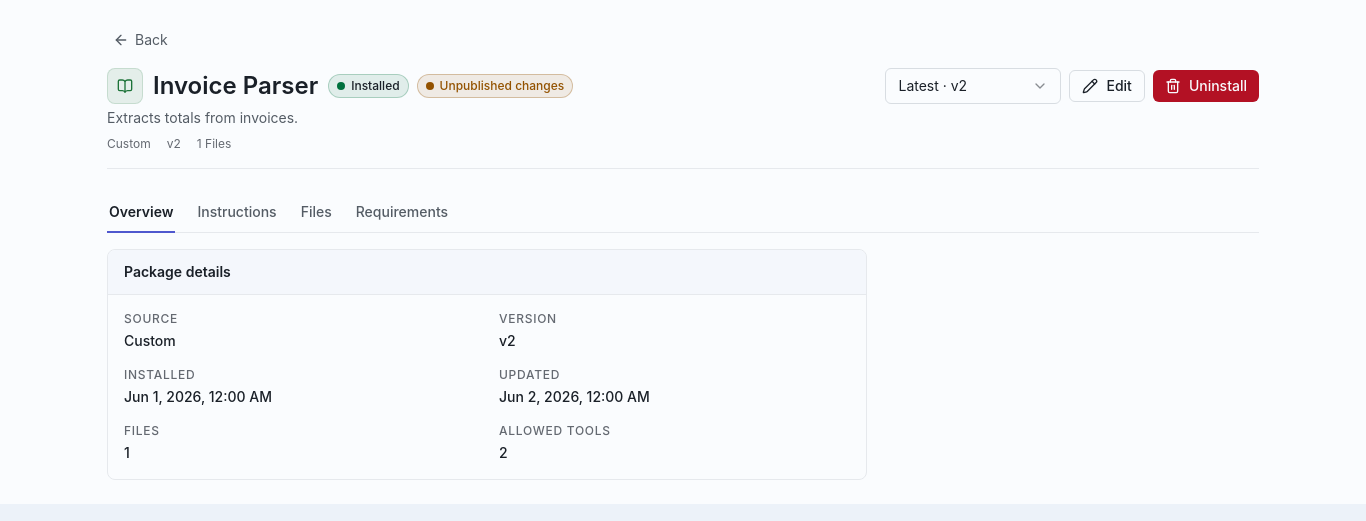
Test case: <SkillDetailPage> › renders name, SKILL.md body, allowed-tools chips, and a Back link
The width and height of the screenshot is (1366, 521).
expect the heading "Invoice Parser" is shown: met, box x1=153 y1=70 x2=318 y2=102
The SKILL.md body surfaces in the Instructions tab.
Click the tab "Instructions". click: (237, 213)
box: x1=196 y1=193 x2=279 y2=233
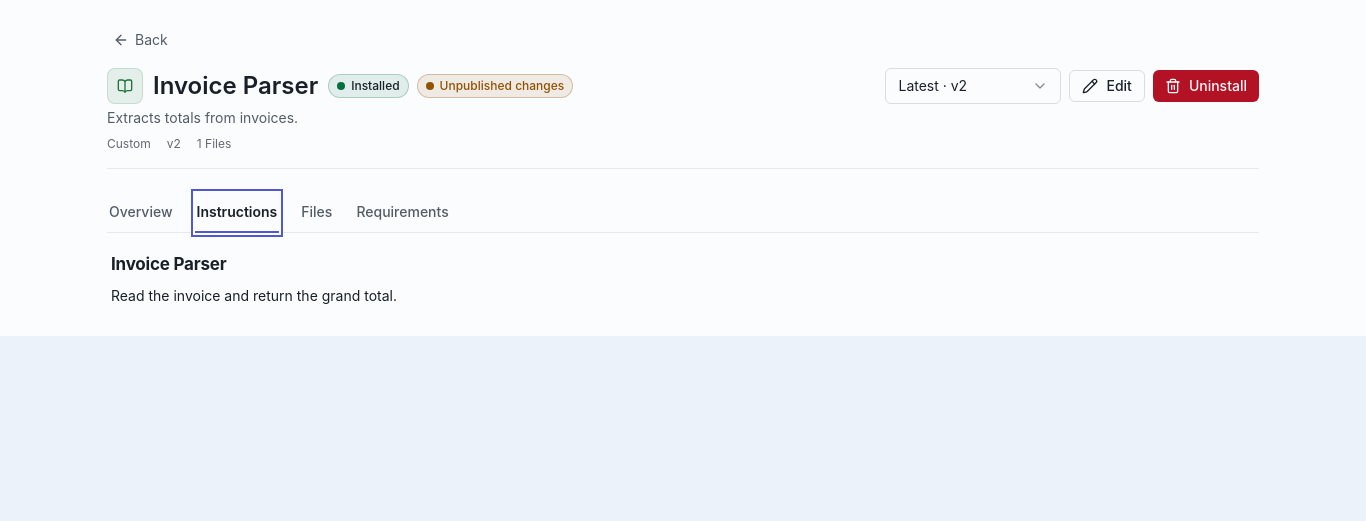
expect the text "Read the invoice and return the grand total." is shown: met, box x1=111 y1=287 x2=397 y2=304
The allowed-tools chips render.
Click the tab "Requirements". click: (403, 213)
box: x1=354 y1=193 x2=451 y2=233
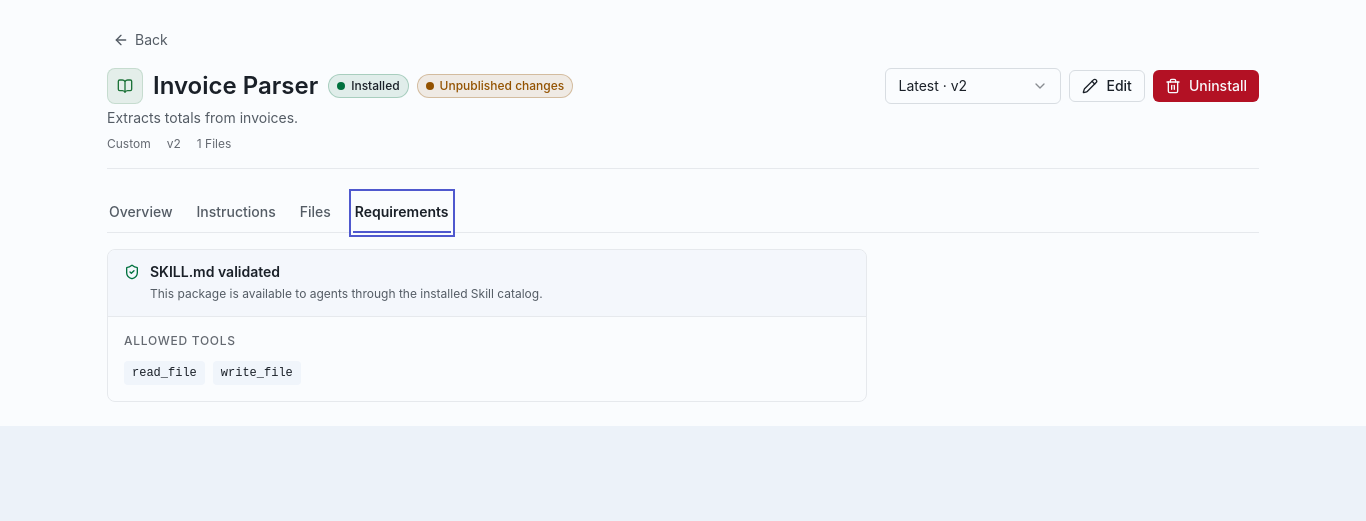
expect the text "read_file" is shown: met, box x1=124 y1=361 x2=205 y2=385
expect the text "write_file" is shown: met, box x1=213 y1=361 x2=301 y2=385
